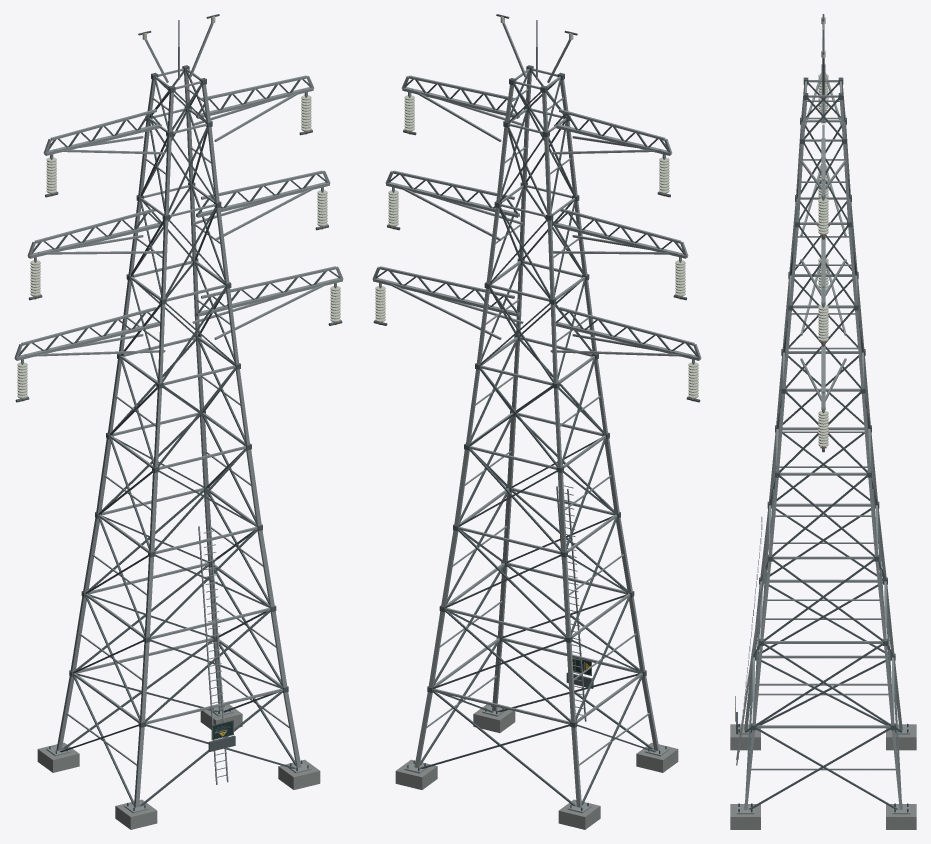
The model's file is ProjectZ_PLT35_TransmissionPylon_Standalone.glb.
3 renders of one model, left to right at view 1: azimuth 30°, elevation 25°; view 2: azimuth 150°, elevation 25°; view 3: azimuth 270°, elevation 25°, orthographic.
Visible parts, largest first — view 1: HorizontalTieRing_Tier01, HorizontalTieRing_Tier02, HorizontalTieRing_Tier03, HorizontalTieRing_Tier04, PylonFooting_WN_ReinforcedConcrete, PylonFooting_ES_ReinforcedConcrete, PylonFooting_WS_ReinforcedConcrete, HorizontalTieRing_Tier05, Arm_P01_Left_BottomChord, Arm_P01_Right_BottomChord, HorizontalTieRing_Tier06, Arm_P02_Left_BottomChord (+3 smaller); view 2: HorizontalTieRing_Tier01, HorizontalTieRing_Tier02, HorizontalTieRing_Tier03, HorizontalTieRing_Tier04, PylonFooting_WS_ReinforcedConcrete, PylonFooting_EN_ReinforcedConcrete, PylonFooting_WN_ReinforcedConcrete, HorizontalTieRing_Tier05, PylonFooting_ES_ReinforcedConcrete, Arm_P01_Left_BottomChord, Arm_P01_Right_BottomChord, HorizontalTieRing_Tier06 (+4 smaller); view 3: HorizontalTieRing_Tier01, HorizontalTieRing_Tier02, HorizontalTieRing_Tier03, HorizontalTieRing_Tier04, IntermediateStiffeners_Tier01, PylonFooting_ES_ReinforcedConcrete, PylonFooting_EN_ReinforcedConcrete, IntermediateStiffeners_Tier02, PylonFooting_WN_ReinforcedConcrete, HorizontalTieRing_Tier05, PylonFooting_WS_ReinforcedConcrete, HorizontalTieRing_Tier06 (+13 smaller).
Part boxes in pixels (left/top/right/bottom): HorizontalTieRing_Tier01: left=73, top=638, right=283, bottom=724; HorizontalTieRing_Tier02: left=85, top=562, right=270, bottom=639; HorizontalTieRing_Tier03: left=98, top=488, right=257, bottom=554; HorizontalTieRing_Tier04: left=110, top=412, right=246, bottom=469; PylonFooting_WN_ReinforcedConcrete: left=37, top=742, right=79, bottom=772; PylonFooting_ES_ReinforcedConcrete: left=278, top=759, right=320, bottom=789; PylonFooting_WS_ReinforcedConcrete: left=115, top=799, right=157, bottom=829; HorizontalTieRing_Tier05: left=121, top=336, right=235, bottom=385; Arm_P01_Left_BottomChord: left=15, top=322, right=159, bottom=360; Arm_P01_Right_BottomChord: left=196, top=278, right=342, bottom=316; HorizontalTieRing_Tier06: left=130, top=260, right=225, bottom=301; Arm_P02_Left_BottomChord: left=28, top=223, right=160, bottom=258; HorizontalTieRing_Tier01: left=432, top=638, right=642, bottom=724; HorizontalTieRing_Tier02: left=445, top=562, right=630, bottom=639; HorizontalTieRing_Tier03: left=458, top=488, right=617, bottom=554; HorizontalTieRing_Tier04: left=469, top=412, right=605, bottom=469; PylonFooting_WS_ReinforcedConcrete: left=636, top=742, right=678, bottom=772; PylonFooting_EN_ReinforcedConcrete: left=395, top=759, right=437, bottom=789; PylonFooting_WN_ReinforcedConcrete: left=558, top=799, right=600, bottom=829; HorizontalTieRing_Tier05: left=480, top=336, right=594, bottom=385; PylonFooting_ES_ReinforcedConcrete: left=473, top=704, right=515, bottom=732; Arm_P01_Left_BottomChord: left=556, top=322, right=700, bottom=360; Arm_P01_Right_BottomChord: left=373, top=278, right=519, bottom=316; HorizontalTieRing_Tier06: left=490, top=260, right=585, bottom=301; HorizontalTieRing_Tier01: left=752, top=655, right=894, bottom=728; HorizontalTieRing_Tier02: left=760, top=579, right=886, bottom=643; HorizontalTieRing_Tier03: left=769, top=503, right=877, bottom=559; HorizontalTieRing_Tier04: left=776, top=427, right=870, bottom=475; IntermediateStiffeners_Tier01: left=751, top=693, right=895, bottom=770; PylonFooting_ES_ReinforcedConcrete: left=730, top=804, right=760, bottom=829; PylonFooting_EN_ReinforcedConcrete: left=886, top=804, right=916, bottom=829; IntermediateStiffeners_Tier02: left=759, top=618, right=887, bottom=685; PylonFooting_WN_ReinforcedConcrete: left=886, top=724, right=916, bottom=750; HorizontalTieRing_Tier05: left=783, top=351, right=863, bottom=391; PylonFooting_WS_ReinforcedConcrete: left=730, top=724, right=760, bottom=750; HorizontalTieRing_Tier06: left=789, top=274, right=857, bottom=308.
Size of the model in its own units: 16.3 by 35.75 by 8.02.
Materials: 6 (6 with a texture image).
